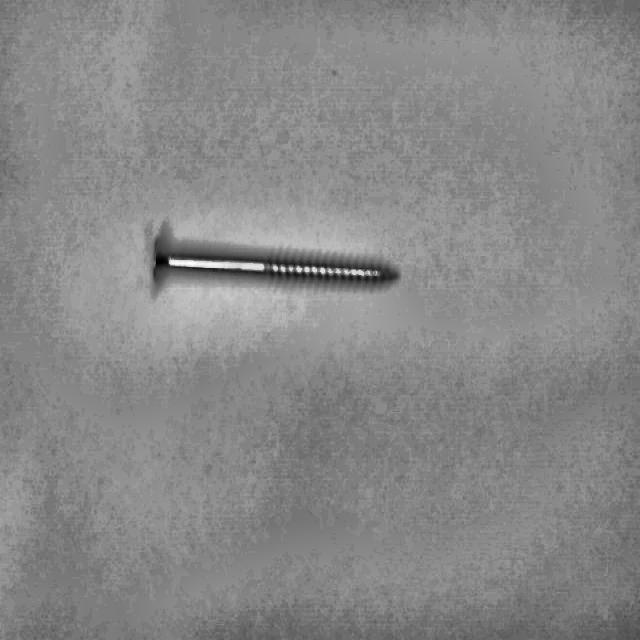Wood screw: (151, 232, 401, 292)
